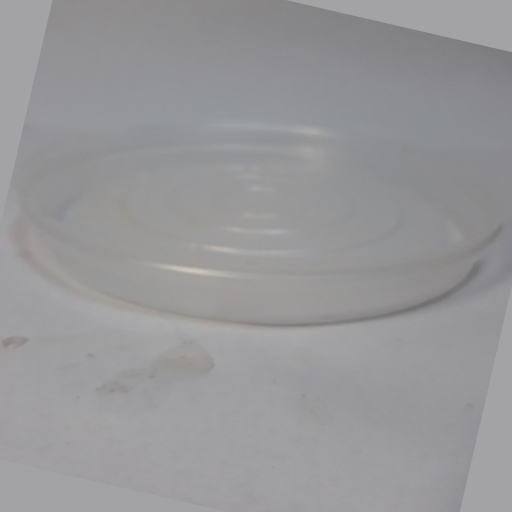Plastic_5: (17, 120, 508, 332)
